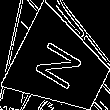N_SE: (32, 37, 90, 96)
